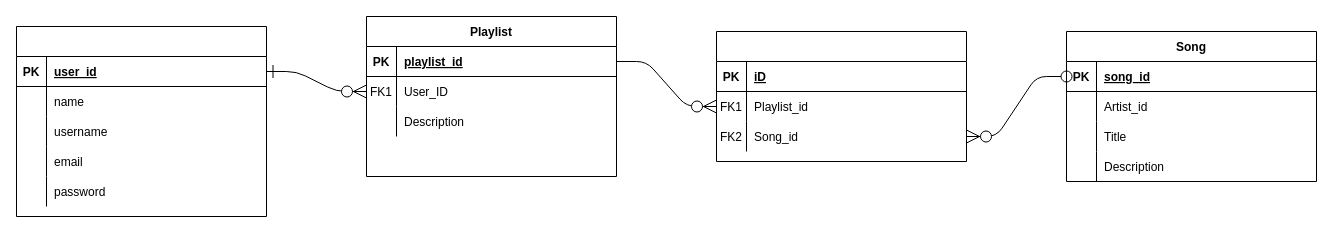
Some shapes in this 1333 by 233 pixel diagram are drawn without their labels. The shapes that lost their labels are listed below. From the top down, each one's box as (x1, y1, x2, y2) in pixels, then its label:
(716, 30, 966, 162): Song/Playlist Join
(16, 26, 266, 216): Users
